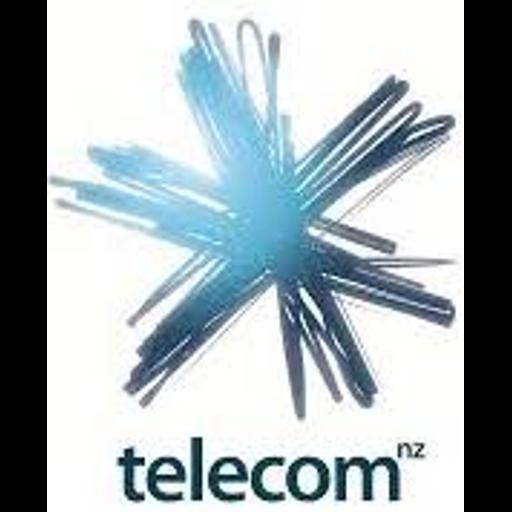Spark New Zealand: (47, 0, 464, 512)
